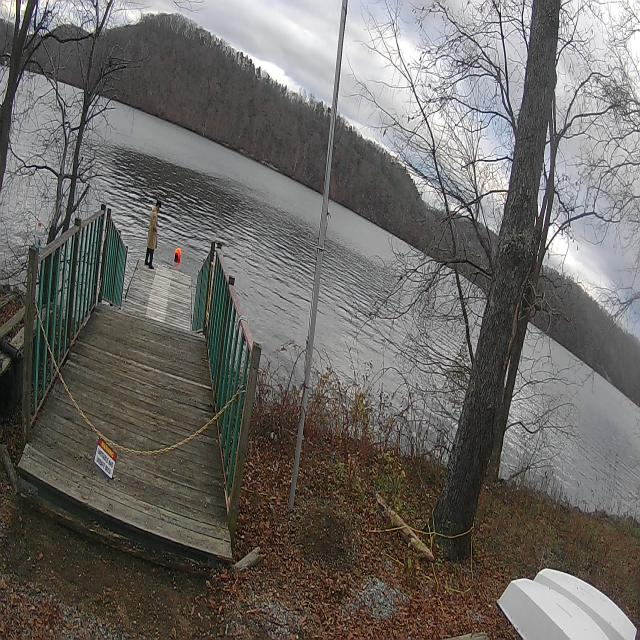Buoy: (174, 246, 182, 264)
